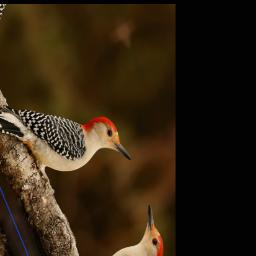Woodpecker: (0, 30, 131, 231)
